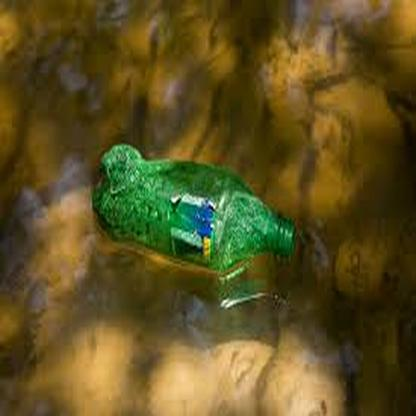plastic bottle: (92, 143, 298, 265)
